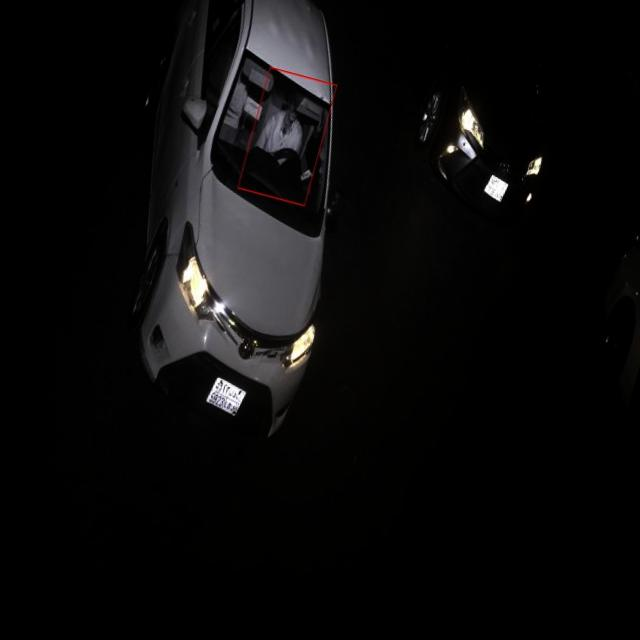person_without_seatbelt: (244, 74, 331, 200)
